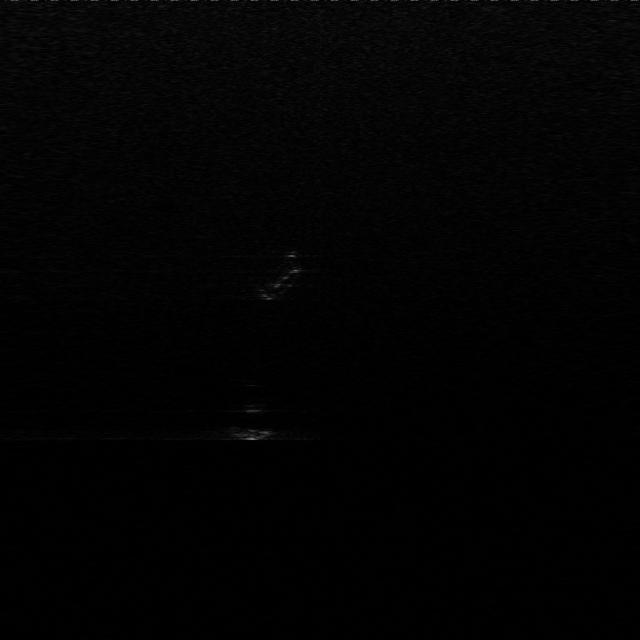ball: (217, 385, 288, 446)
tyre: (244, 251, 314, 305)
